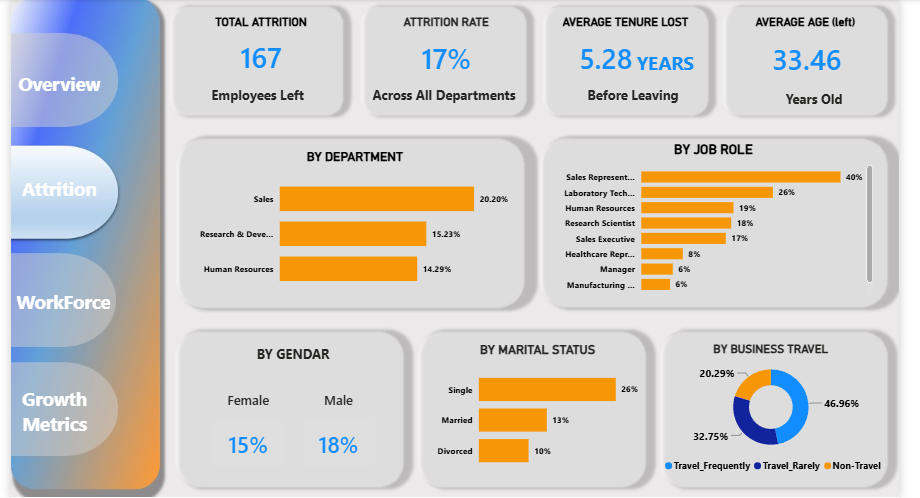

What the dashboard file says about the page in this screenshot:
{"tool":"powerbi","page":{"name":"Attrition","canvas":[1280,720],"ordinal":1},"visuals":[{"type":"actionButton","box":[0,97.3,139,46.3],"z":0},{"type":"actionButton","box":[0,250.1,139,40.1],"z":1000},{"type":"actionButton","box":[0,413.3,151.2,40.3],"z":2000},{"type":"actionButton","box":[0,547.2,125.3,92.2],"z":3000},{"type":"cardVisual","title":"TOTAL ATTRITION","fields":{"Data":["Fact_HR_EmployeeData.Attrited Employees"]},"box":[251.7,23.2,216.2,97.3],"z":4000},{"type":"textbox","box":[284.1,120.4,149.8,46.3],"z":5000},{"type":"cardVisual","title":"ATTRITION RATE","fields":{"Data":["Fact_HR_EmployeeData.Attrition Rate"]},"box":[515.7,23.2,222.3,101.9],"z":6000},{"type":"textbox","box":[515.7,120.4,242.4,47.9],"z":7000},{"type":"cardVisual","title":"AVERAGE TENURE LOST","fields":{"Data":["Fact_HR_EmployeeData.Aveg Tenure Attrited"]},"box":[789,23.2,240.9,101.9],"z":8000},{"type":"textbox","box":[894,67.9,95.7,58.7],"z":9000},{"type":"textbox","box":[824.5,120.4,168.3,55.6],"z":10000},{"type":"cardVisual","title":"AVERAGE AGE (left)","fields":{"Data":["Fact_HR_EmployeeData.Avg Age (left)"]},"box":[1066.9,23.2,179.1,103.4],"z":11000},{"type":"textbox","box":[1066.9,126.6,179.1,40.1],"z":12000},{"type":"barChart","title":"BY DEPARTMENT","fields":{"Y":["Fact_HR_EmployeeData.Attrition By Department"],"Category":["Fact_HR_EmployeeData.Department"]},"box":[251.7,216.2,486.4,217.7],"z":13000},{"type":"barChart","title":"BY JOB ROLE","fields":{"Y":["Fact_HR_EmployeeData.Attrition Rate"],"Category":["Fact_HR_EmployeeData.JobRole"]},"box":[778.2,203.8,467.8,230.1],"z":14000},{"type":"textbox","box":[251.7,494.1,308.8,40.1],"z":15000},{"type":"cardVisual","fields":{"Data":["Fact_HR_EmployeeData.Attrition Rate"],"Rows":["Fact_HR_EmployeeData.Gender"]},"box":[251.7,555.9,308.8,135.9],"z":16000},{"type":"barChart","title":" BY MARITAL STATUS","fields":{"Y":["Fact_HR_EmployeeData.Attrition Rate"],"Category":["Fact_HR_EmployeeData.MaritalStatus"]},"box":[608.3,494.1,301.1,197.6],"z":17000},{"type":"donutChart","title":"BY BUSINESS TRAVEL","fields":{"Y":["Fact_HR_EmployeeData.Attrition Rate"],"Category":["Fact_HR_EmployeeData.BusinessTravel"]},"box":[926.4,494.1,336.6,197.6],"z":18000}]}

Visuals, with their boxes on the page's 1280x720 design canvas (x1, y1, x2, y2). These are canvas units, not pixel positions in the 920x498 screenshot, which may show the page scaled, cropped or inside an application window:
actionButton: [x1=0, y1=97, x2=139, y2=144]
actionButton: [x1=0, y1=250, x2=139, y2=290]
actionButton: [x1=0, y1=413, x2=151, y2=454]
actionButton: [x1=0, y1=547, x2=125, y2=639]
"TOTAL ATTRITION" cardVisual: [x1=252, y1=23, x2=468, y2=120]
textbox: [x1=284, y1=120, x2=434, y2=167]
"ATTRITION RATE" cardVisual: [x1=516, y1=23, x2=738, y2=125]
textbox: [x1=516, y1=120, x2=758, y2=168]
"AVERAGE TENURE LOST" cardVisual: [x1=789, y1=23, x2=1030, y2=125]
textbox: [x1=894, y1=68, x2=990, y2=127]
textbox: [x1=824, y1=120, x2=993, y2=176]
"AVERAGE AGE (left)" cardVisual: [x1=1067, y1=23, x2=1246, y2=127]
textbox: [x1=1067, y1=127, x2=1246, y2=167]
"BY DEPARTMENT" barChart: [x1=252, y1=216, x2=738, y2=434]
"BY JOB ROLE" barChart: [x1=778, y1=204, x2=1246, y2=434]
textbox: [x1=252, y1=494, x2=560, y2=534]
cardVisual - Fact_HR_EmployeeData.Attrition Rate x Fact_HR_EmployeeData.Gender: [x1=252, y1=556, x2=560, y2=692]
" BY MARITAL STATUS" barChart: [x1=608, y1=494, x2=909, y2=692]
"BY BUSINESS TRAVEL" donutChart: [x1=926, y1=494, x2=1263, y2=692]
